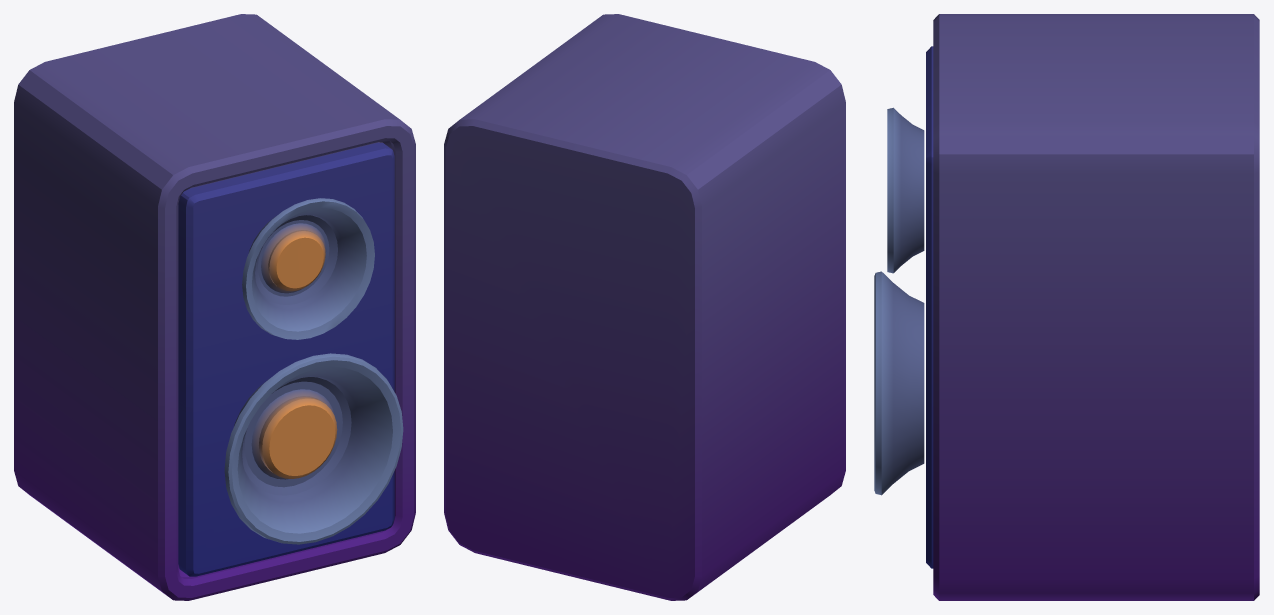
File: Speaker.fbx
3 views of the same model, side by side, from view 1: azimuth 30°, elevation 25°; view 2: azimuth 150°, elevation 25°; view 3: azimuth 270°, elevation 25° (orthographic). The views are drawn at different scales.
Visible parts, largest first — view 1: Speaker; view 2: Speaker; view 3: Speaker.
Part boxes in pixels (left/top/right/bottom): Speaker: left=14, top=14, right=415, bottom=600; Speaker: left=444, top=14, right=845, bottom=600; Speaker: left=874, top=14, right=1259, bottom=600.
Bounding box in the file's own units: 112 × 180 × 132.
